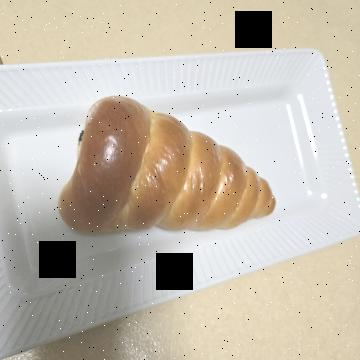cream horn: (73, 69, 257, 304)
